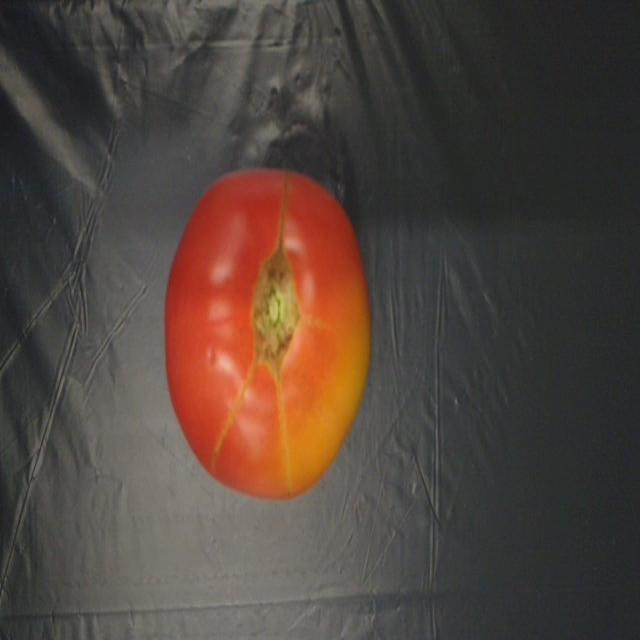sari: (165, 148, 382, 506)
